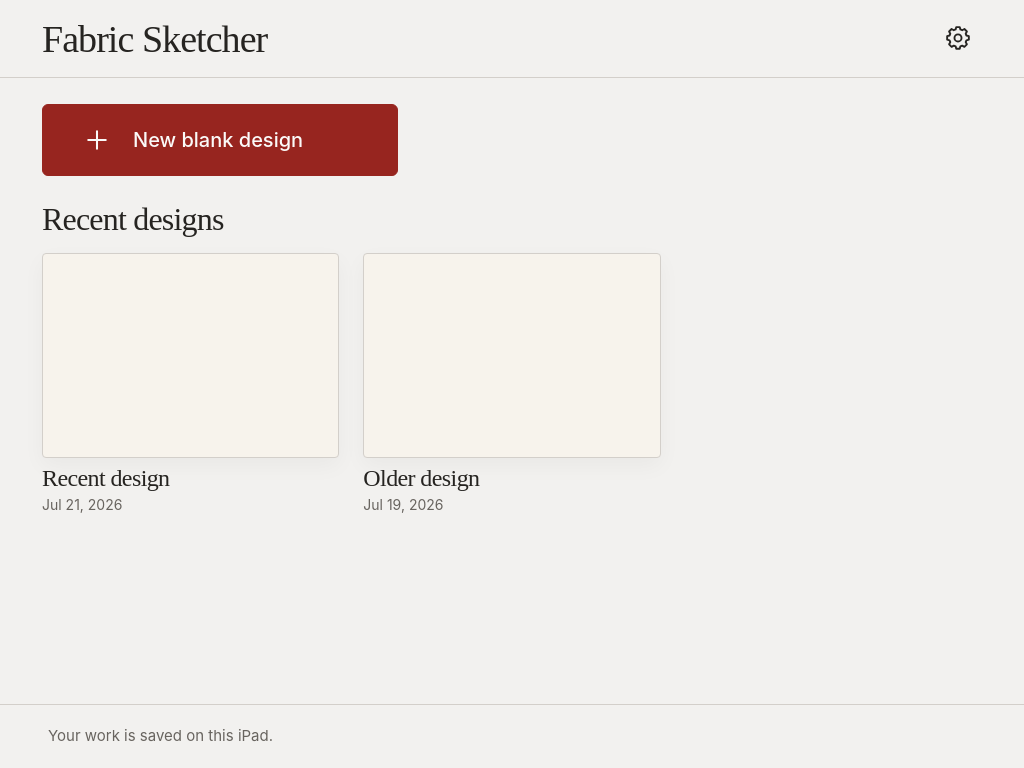
Test: App › renames a design from the editor header
expect the text "Recent design" is shown: met, box [42,465,170,491]
Click the button "Recent design Jul 21, 2026".
click(191, 384)  # box [42,253,339,514]
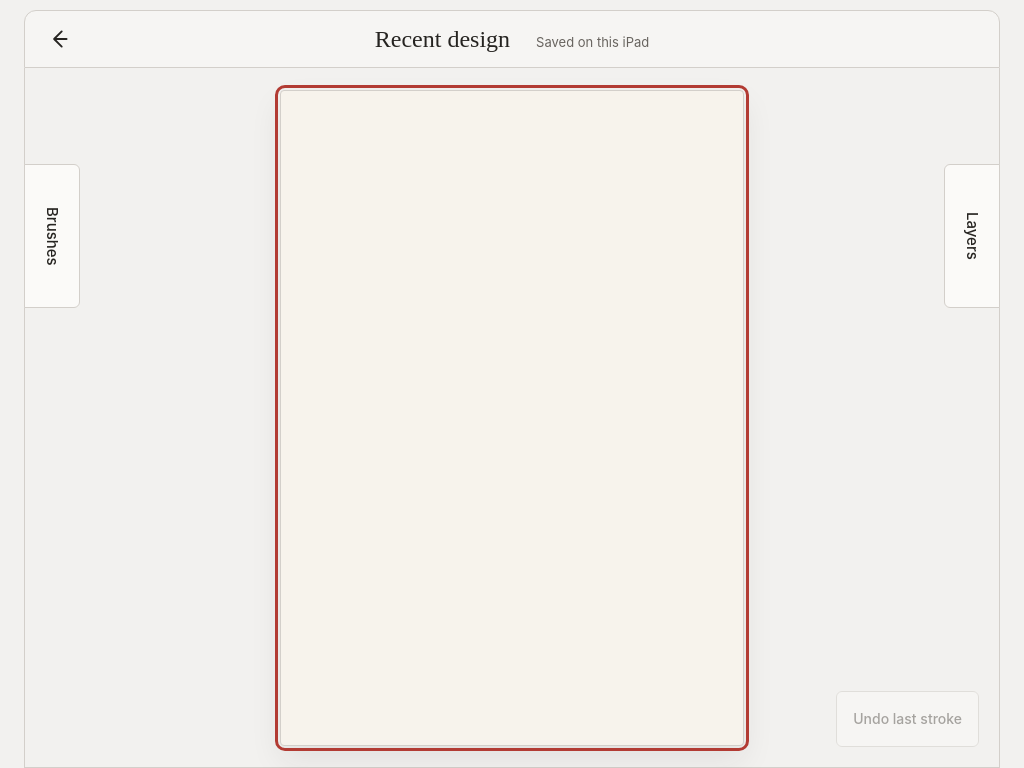
Click the button with aria-label "Rename design".
click(442, 39)  # box [375,26,510,52]
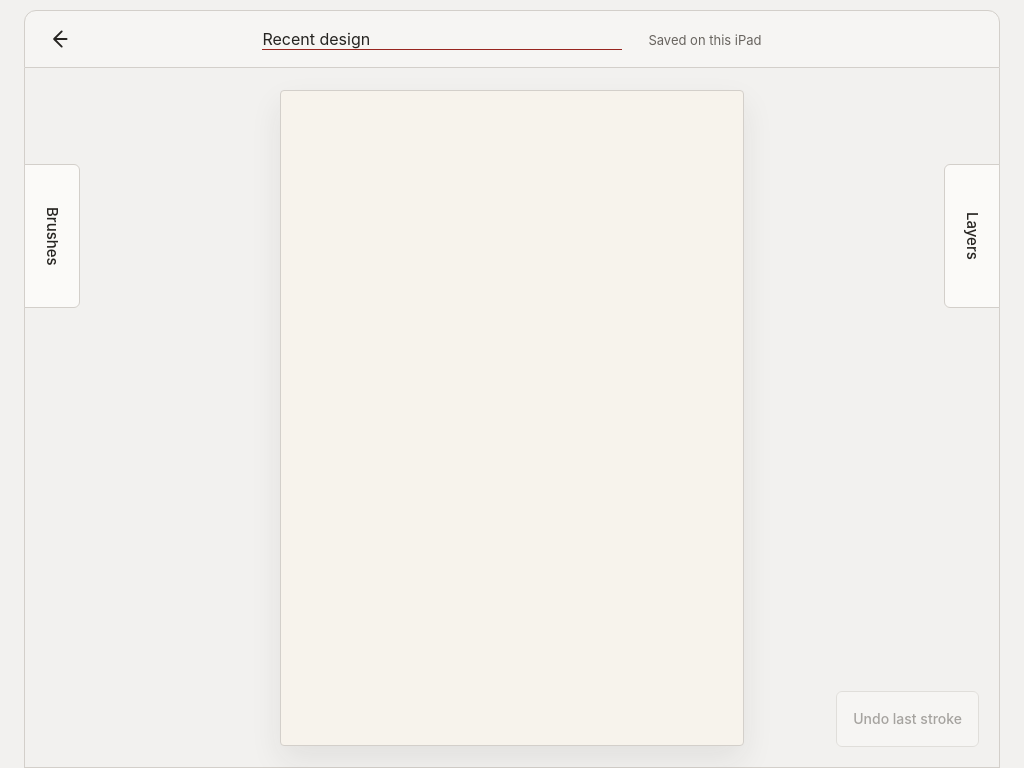
Replace the text in the field named "Design name" with "Linen Wrap Study" at (442,39), box [262,28,622,50]
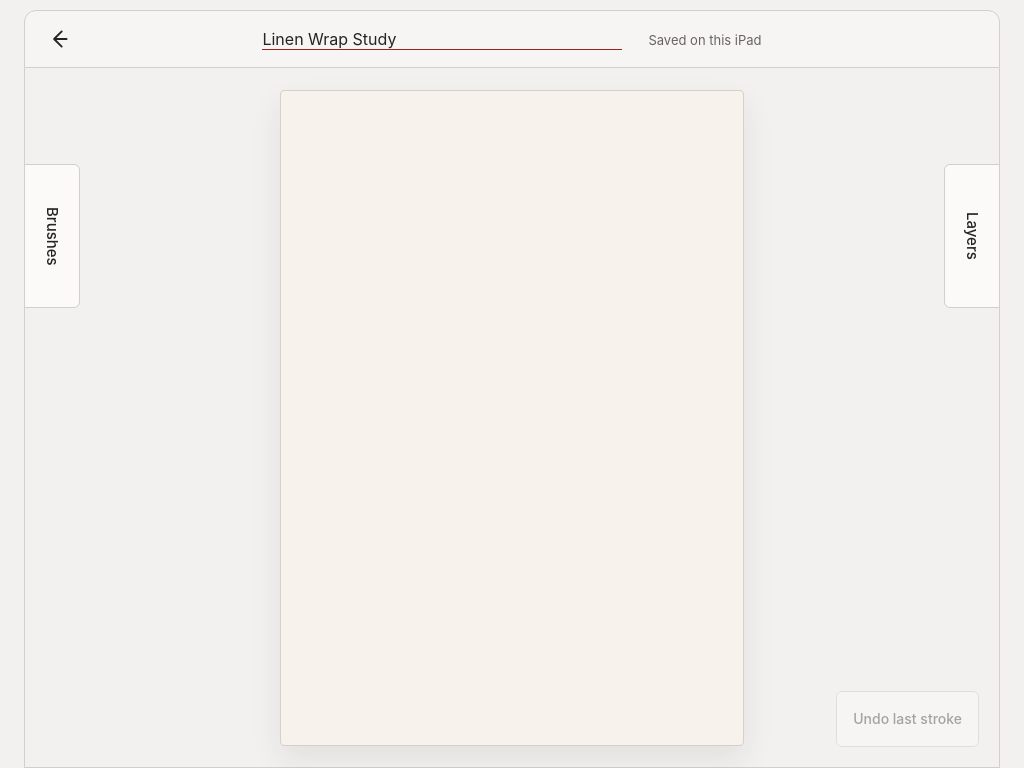
Press Enter
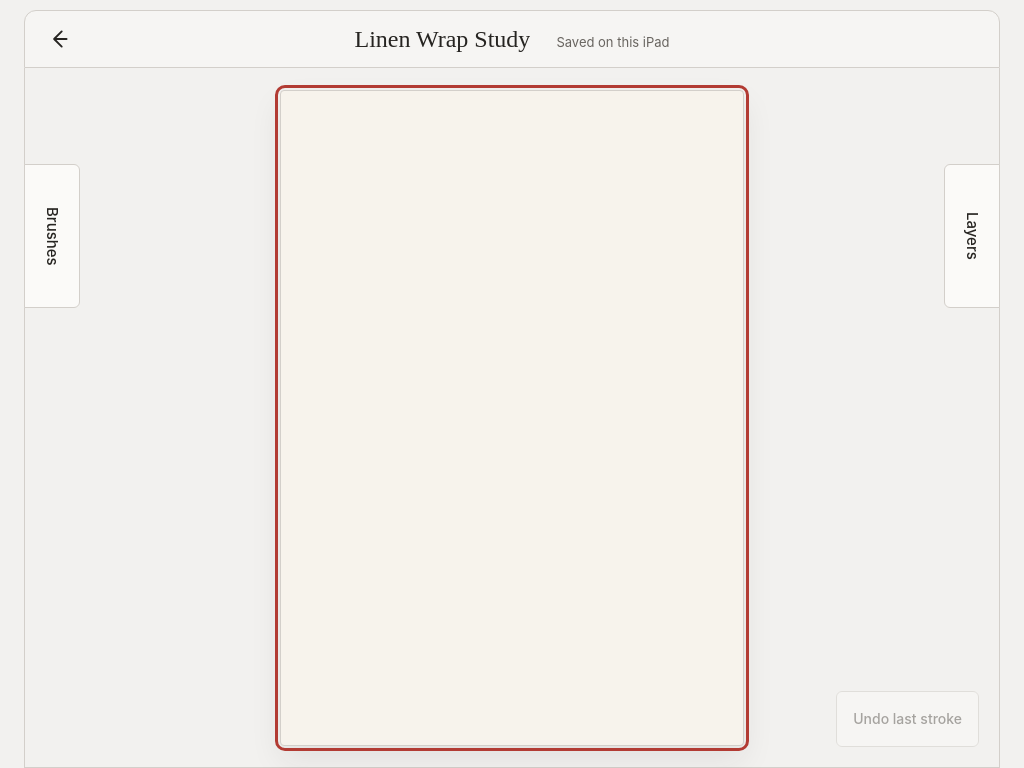
expect the heading "Linen Wrap Study" is shown: met, box [354,26,530,52]
